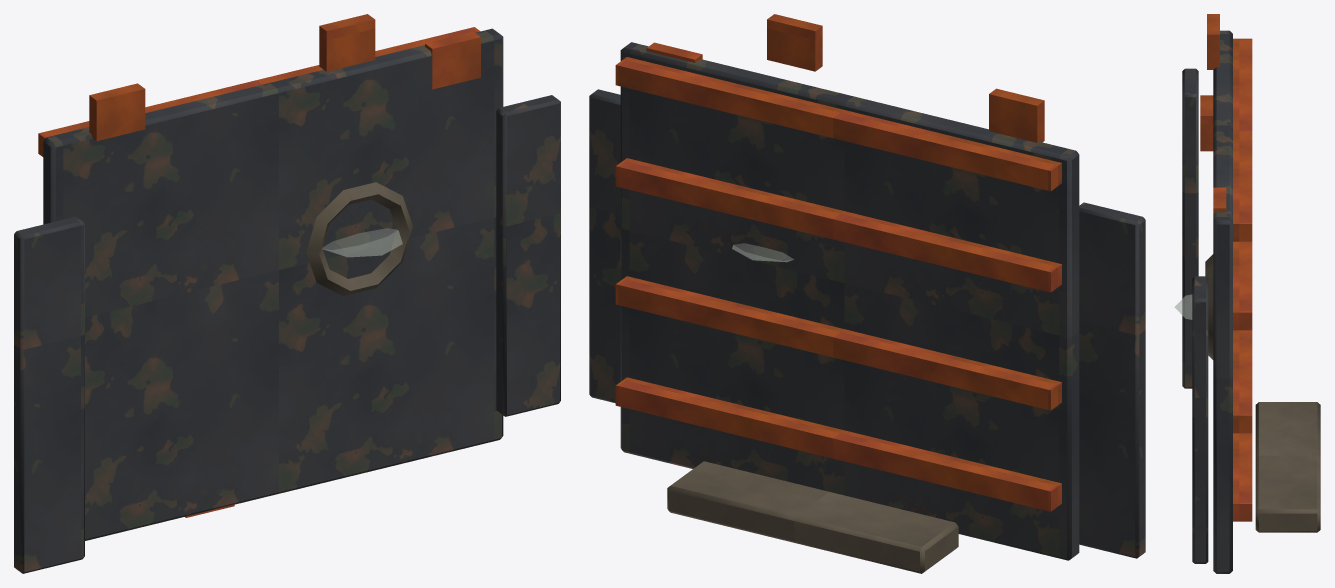
The model's file is prop_hull_piece.glb.
The picture shows the model from 3 angles, left to right: view 1: azimuth 30°, elevation 25°; view 2: azimuth 150°, elevation 25°; view 3: azimuth 270°, elevation 25°; orthographic projection. The views are drawn at different scales.
Visible parts, largest first — view 1: Hull, Rust, Body, Glass; view 2: Hull, Rust, Body; view 3: Hull, Rust, Body, Glass.
Part boxes in pixels (x1,y1,x2,y2): Hull: (14,28,560,573); Rust: (38,14,480,517); Body: (306,182,412,296); Glass: (322,228,402,257); Hull: (589,42,1145,560); Rust: (615,14,1061,516); Body: (667,461,958,573); Hull: (1182,30,1232,573); Rust: (1200,14,1252,521); Body: (1205,254,1320,532); Glass: (1174,294,1192,319).
Bounding box in the file's own units: 1.69 × 1.37 × 0.45.
4 materials, 3 textured.
